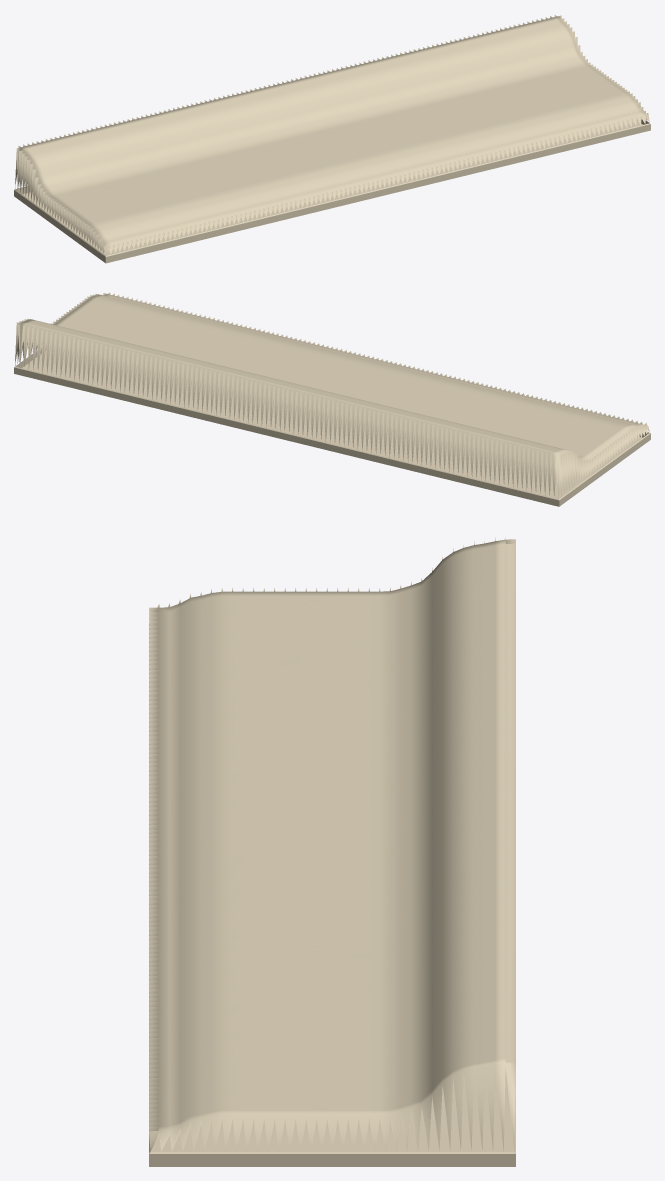
The model's file is mahsulot.glb.
3 views of the same model, one above another, from view 1: azimuth 30°, elevation 25°; view 2: azimuth 150°, elevation 25°; view 3: azimuth 270°, elevation 25° (orthographic). The views are drawn at different scales.
Parts seen in each view (by area): view 1: mahsulot; view 2: mahsulot; view 3: mahsulot.
Part boxes in pixels (x1=…): mahsulot: x1=14, y1=15, x2=650, y2=263; mahsulot: x1=14, y1=292, x2=650, y2=506; mahsulot: x1=149, y1=537, x2=515, y2=1166.
Bounding box in the file's own units: 1.2 × 0.1051 × 0.35.
